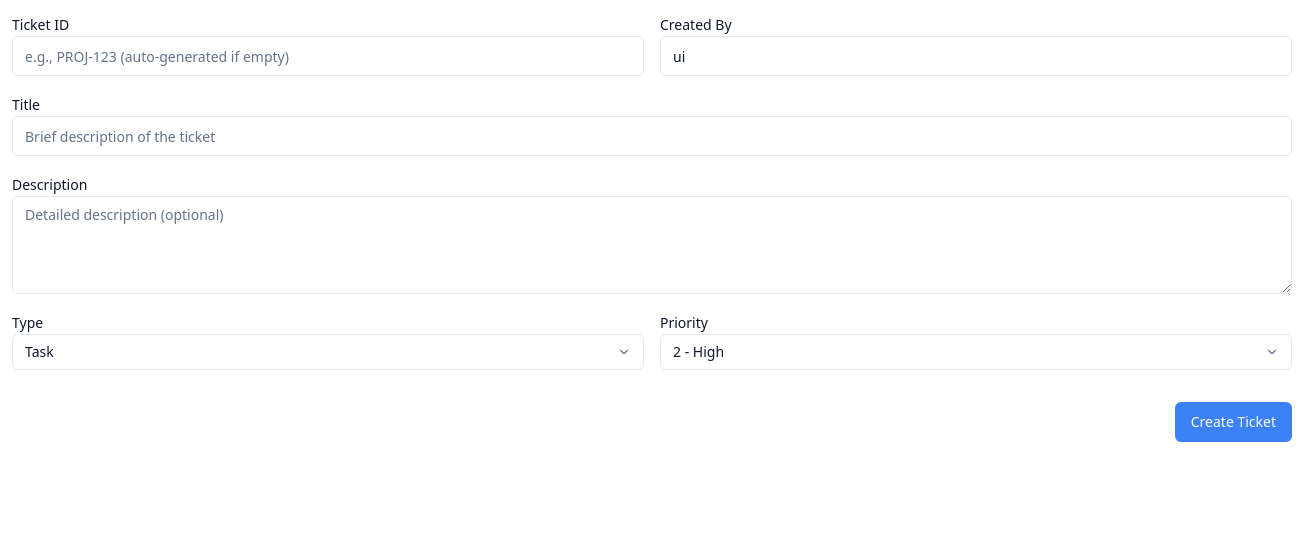
Scenario: TicketForm - Dropdown (Controller) integration › Priority dropdown › renders all 4 priority options when opened
Click the button "2 - High".
click(699, 352)  # box left=660, top=334, right=1292, bottom=370
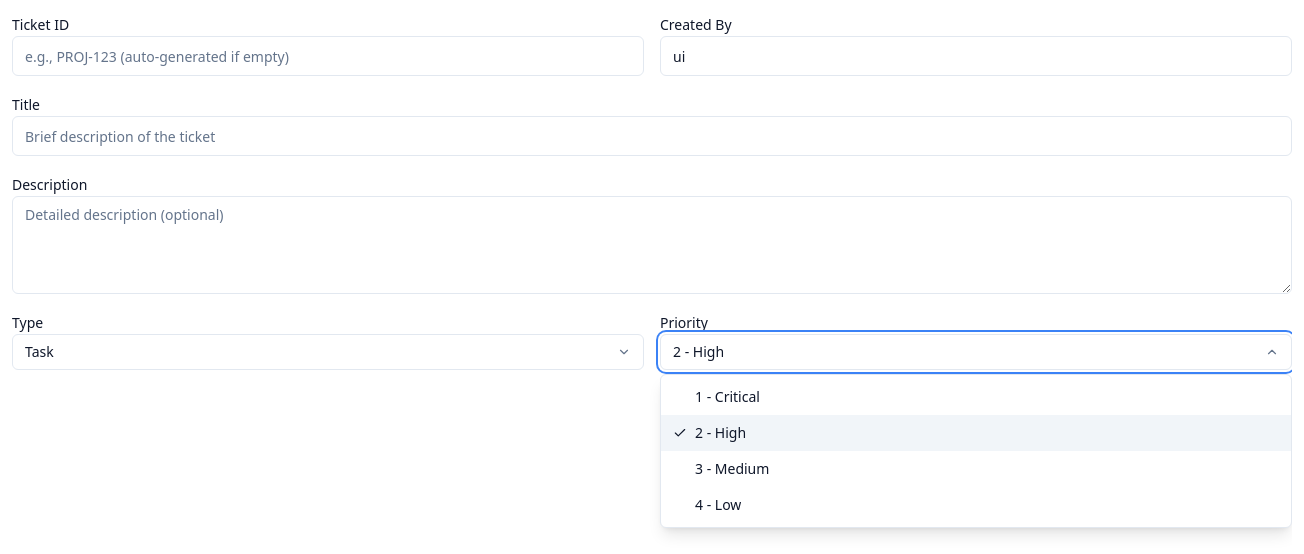
expect the text "1 - Critical" is shown: met, box left=695, top=387, right=760, bottom=407
expect the text "3 - Medium" is shown: met, box left=695, top=459, right=769, bottom=479
expect the text "4 - Low" is shown: met, box left=695, top=495, right=741, bottom=515
